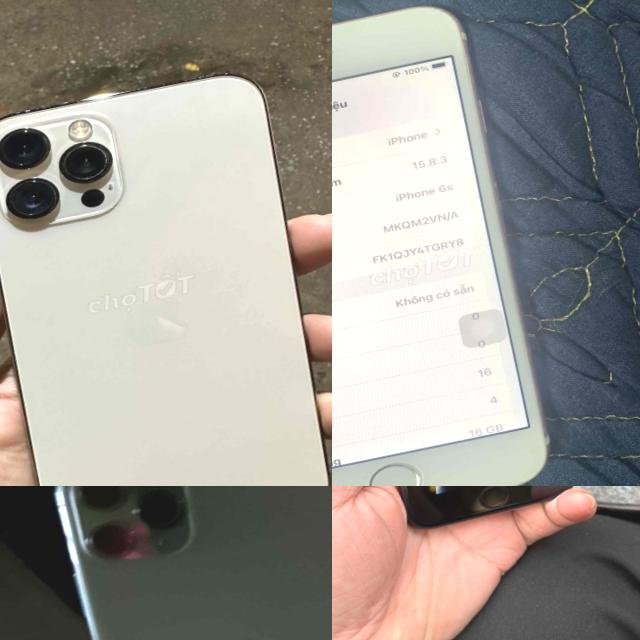gen_11: (32, 486, 332, 640)
gen_12_13: (0, 51, 332, 486)
gen_6: (332, 6, 546, 486)
gen_7_8: (346, 486, 588, 532)
